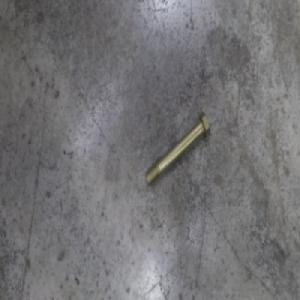Bolt: (144, 110, 211, 186)
